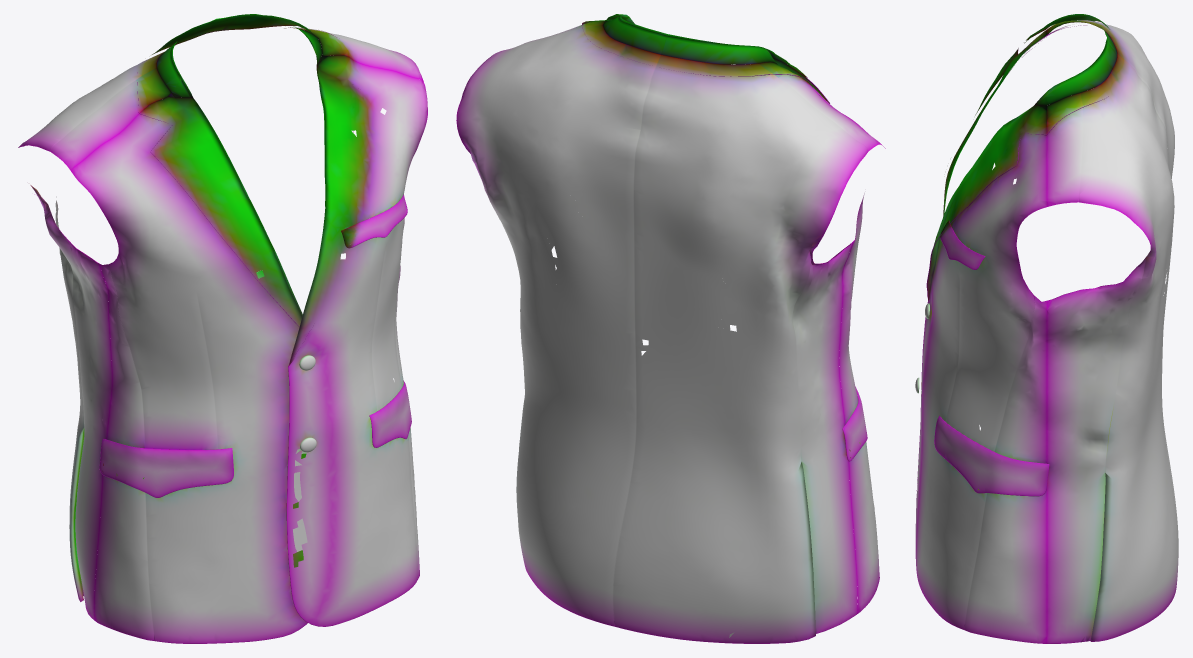
File: vest.glb
3 views of the same model, side by side, from view 1: azimuth 30°, elevation 25°; view 2: azimuth 150°, elevation 25°; view 3: azimuth 270°, elevation 25° (orthographic). The views are drawn at different scales.
Visible parts, largest first — view 1: front, back, pockets, buttons; view 2: back, front, pockets; view 3: back, front, pockets.
Boxes of the visible parts, x1,y1,x2,y2 form: front: (71,55,427,643); back: (18,27,423,620); pockets: (99,14,411,497); buttons: (256,270,316,551); back: (456,20,881,643); front: (773,58,885,613); pockets: (548,14,867,637); back: (1047,20,1178,643); front: (915,30,1046,643); pockets: (934,14,1167,496).
Bounding box in the file's own units: 0.4774 × 0.68 × 0.2991.
